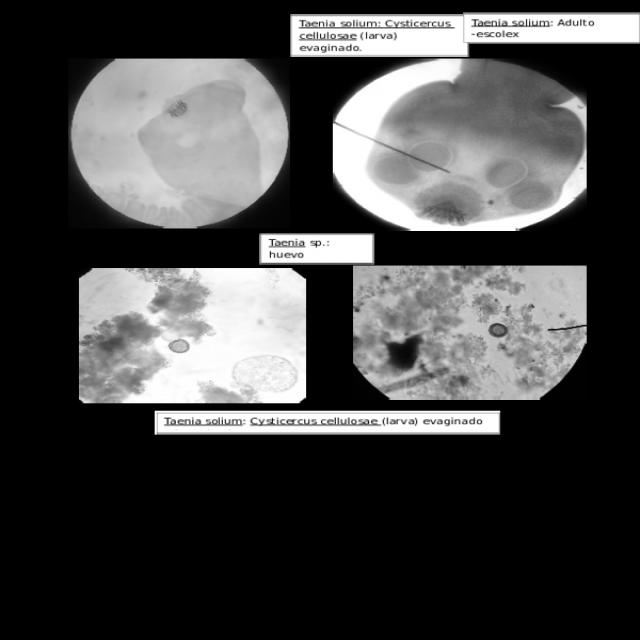Taenia Sp: (484, 318, 511, 338), (166, 335, 189, 358)
